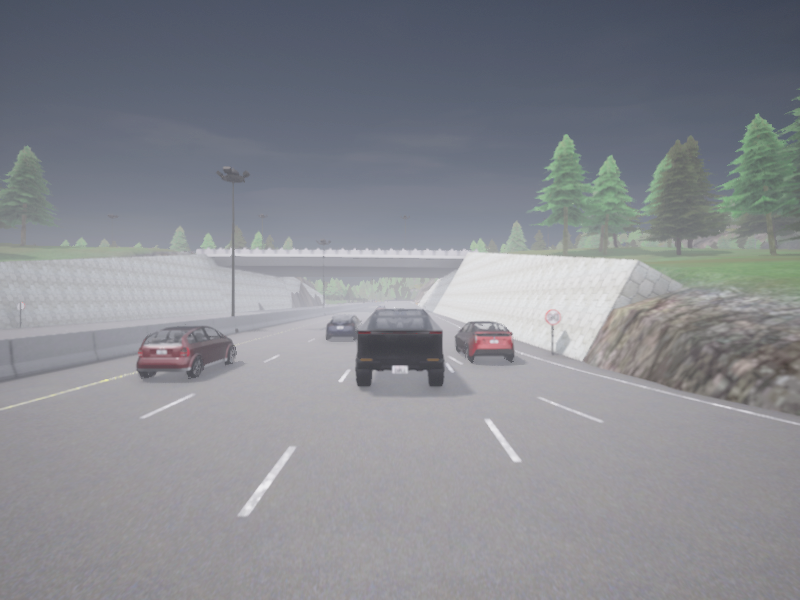vehicle: (355, 309, 444, 386), (136, 325, 235, 378), (455, 321, 514, 361), (326, 314, 362, 339), (414, 305, 425, 310), (377, 305, 386, 308), (395, 307, 404, 308)
